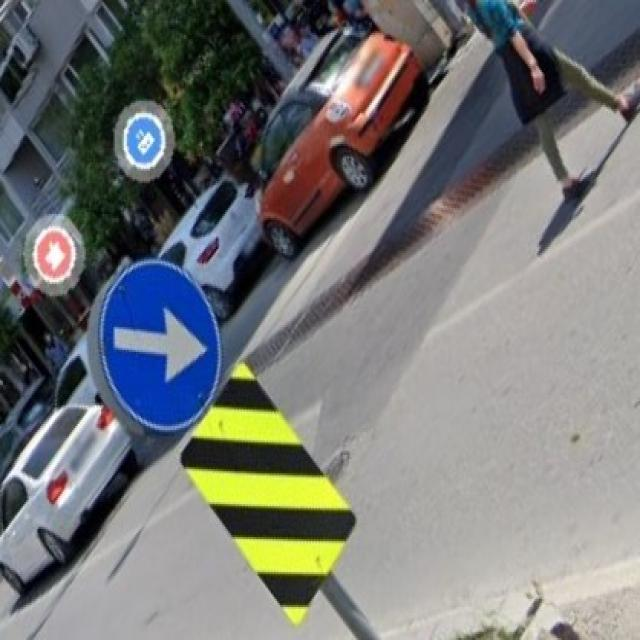Turn Right: (93, 261, 223, 438)
